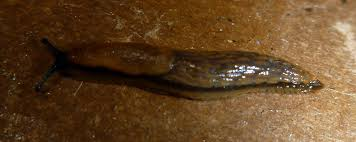slug: (29, 38, 328, 92)
